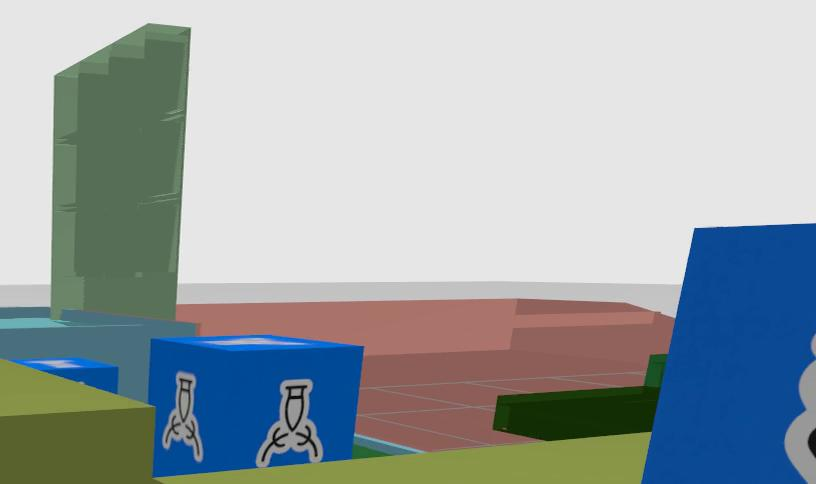KFS_REAL: (641, 224, 815, 484), (149, 334, 362, 475), (256, 380, 322, 466), (161, 372, 203, 462)
